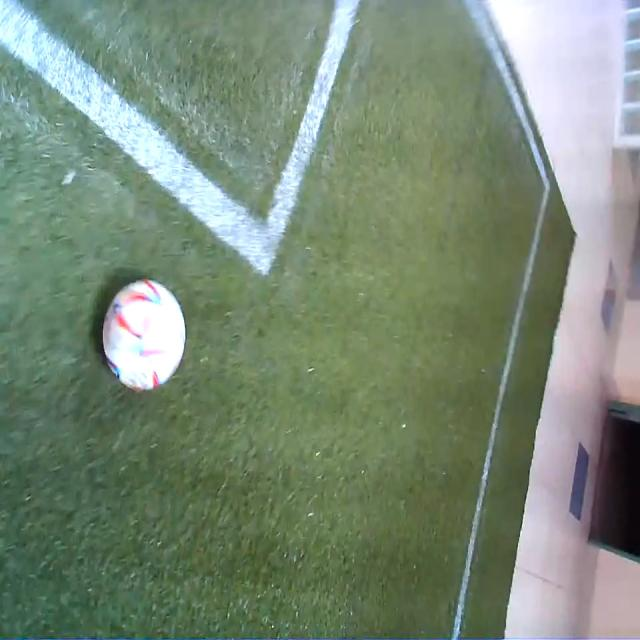ball: (102, 276, 185, 394)
